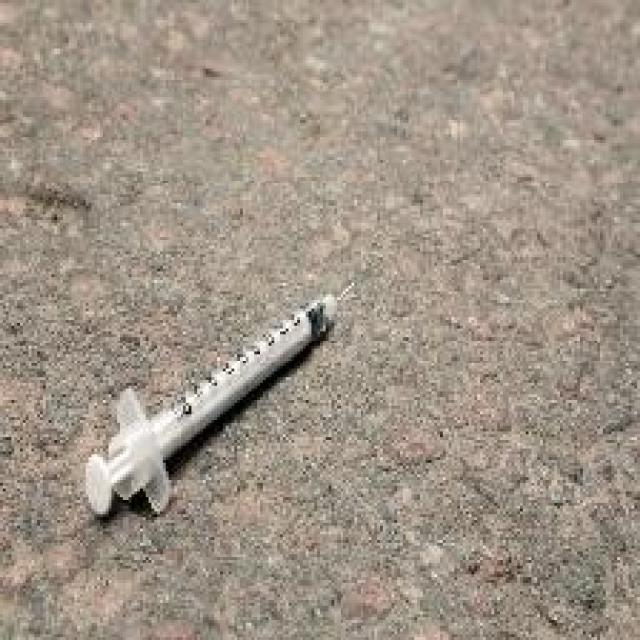syringe: (52, 268, 378, 536)
